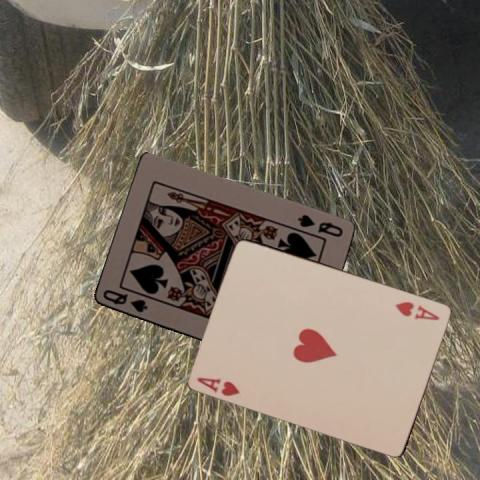Ah: (393, 298, 441, 322), (194, 374, 241, 397)
Qs: (100, 286, 150, 314), (295, 211, 344, 239)
